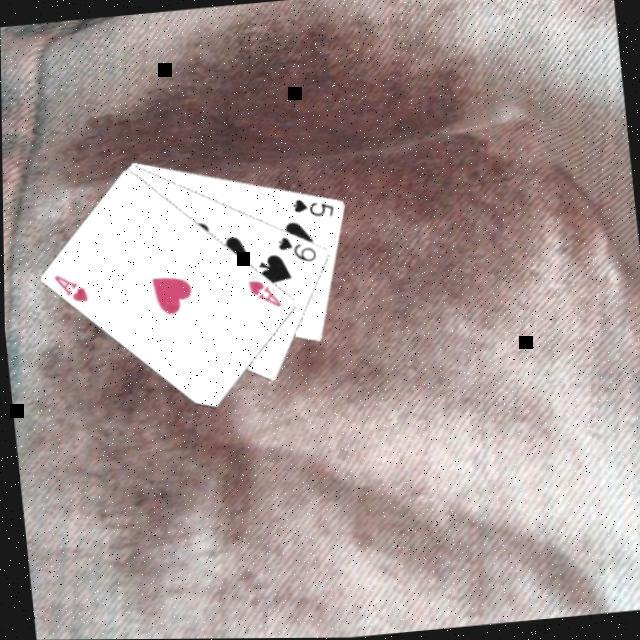5S: (288, 191, 336, 222)
9S: (272, 230, 318, 266)
AH: (242, 272, 283, 312), (48, 268, 89, 306)
